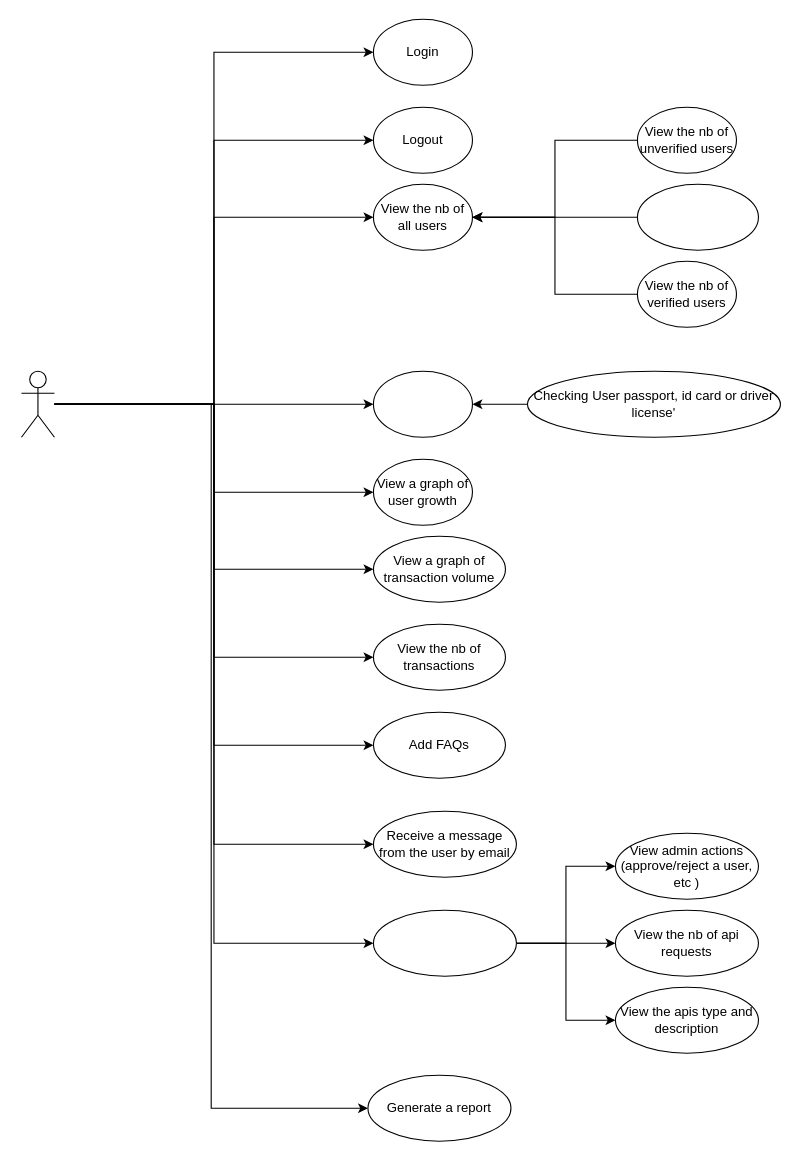
The diagram is 800 pixels wide and 1161 high, and some of its shapes have lost their labels. The box of each missing label's shape, as (x1, y1, x2, y2) in pixels:
Admin: (20, 370, 54, 437)
approve users: (372, 370, 472, 437)
View System logs: (372, 909, 516, 976)
View the nb of Users Awaiting Approval: (636, 183, 758, 250)
